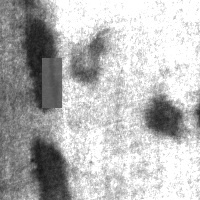inclusion: (42, 58, 62, 108)
patches: (22, 14, 60, 110), (30, 136, 70, 200), (69, 26, 109, 84), (138, 92, 186, 136)
